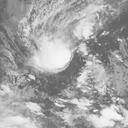cyclone: (27, 37, 73, 74)
